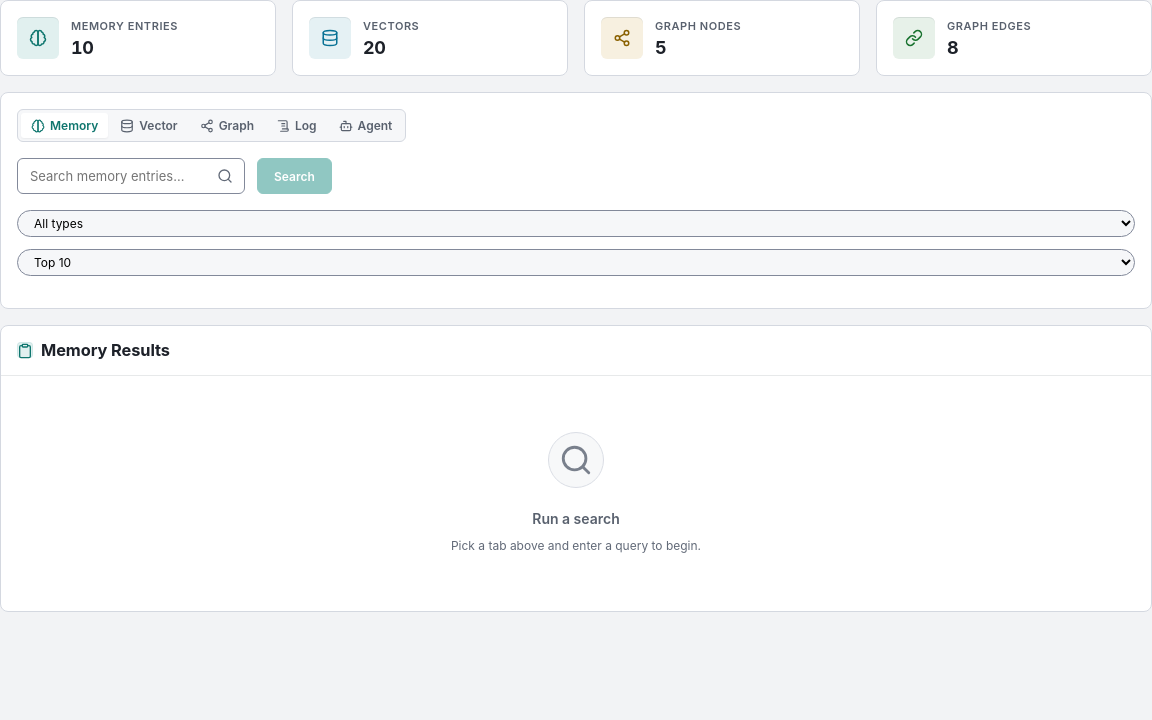
Test: Search.vue › shows error card when search API fails
This screenshot has width=1152, height=720.
Type "test" into the field with class "search-input" at (131, 176), box [17,158,245,194]
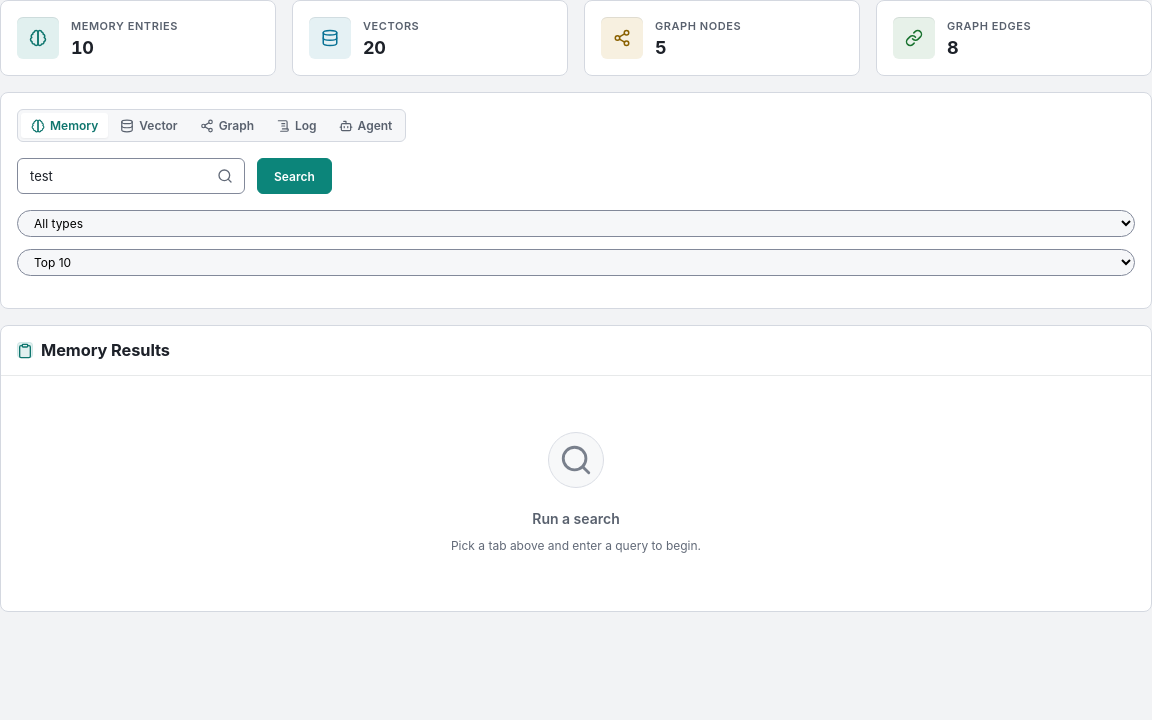
Click the button "Search" at (294, 176), box [257,158,332,194]
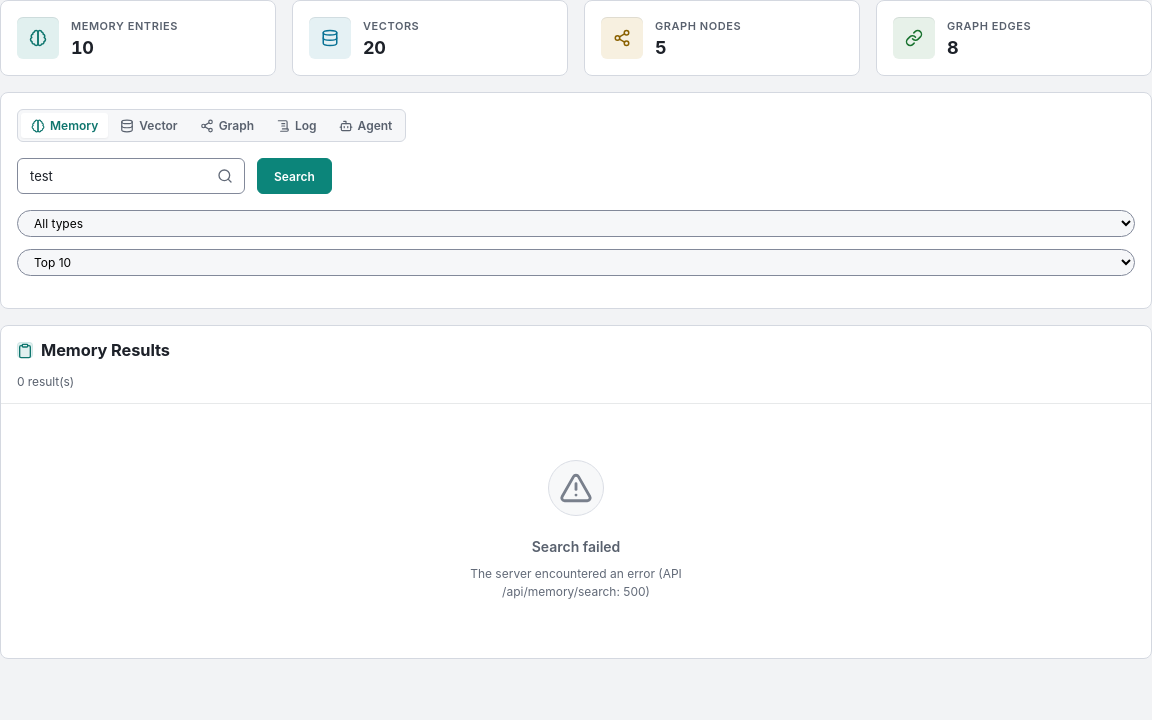
Expected: the element with class "err" is shown, [470,460,682,599]
